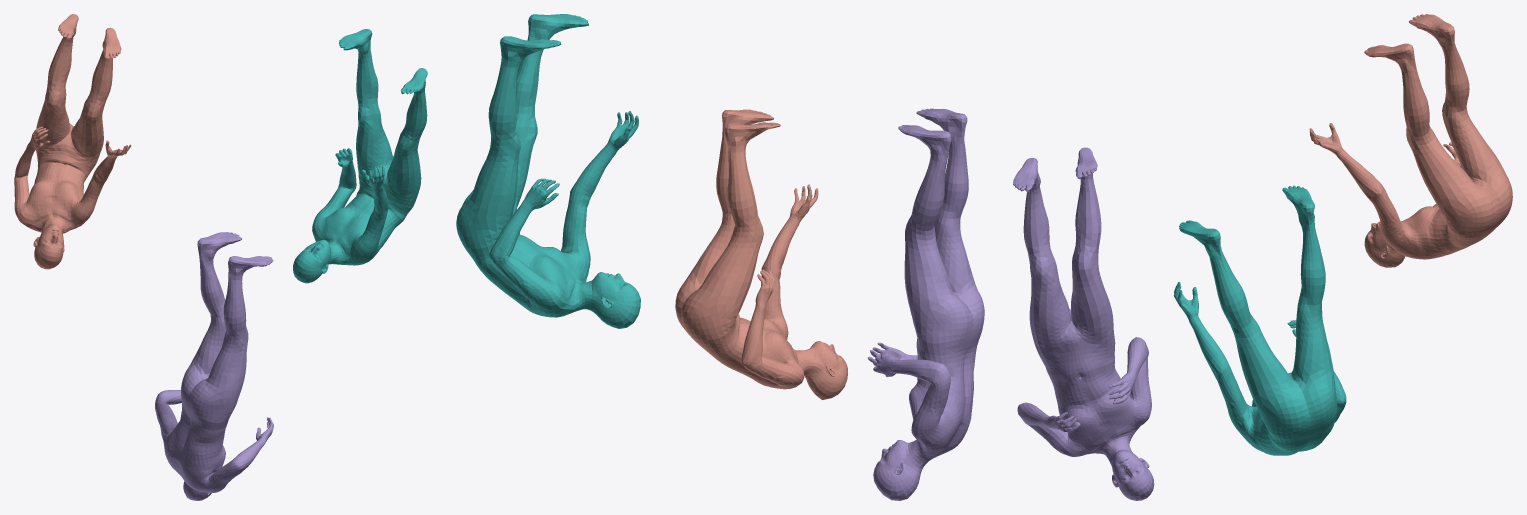
Rendered from all_people_native_world.glb.
The picture shows the model from 3 angles, left to right: view 1: azimuth 30°, elevation 25°; view 2: azimuth 150°, elevation 25°; view 3: azimuth 270°, elevation 25°; orthographic projection. The views are drawn at different scales.
Visible parts, largest first — view 1: persistent_id_2_slot_0, persistent_id_1_slot_2, persistent_id_0_slot_1; view 2: persistent_id_1_slot_2, persistent_id_2_slot_0, persistent_id_0_slot_1; view 3: persistent_id_2_slot_0, persistent_id_0_slot_1, persistent_id_1_slot_2.
Boxes of the visible parts, x1,y1,x2,y2 form: persistent_id_2_slot_0: [155, 232, 273, 500]; persistent_id_1_slot_2: [293, 29, 427, 283]; persistent_id_0_slot_1: [14, 14, 131, 269]; persistent_id_1_slot_2: [456, 14, 640, 328]; persistent_id_2_slot_0: [867, 108, 984, 500]; persistent_id_0_slot_1: [675, 109, 847, 399]; persistent_id_2_slot_0: [1013, 147, 1154, 500]; persistent_id_0_slot_1: [1309, 14, 1512, 267]; persistent_id_1_slot_2: [1173, 185, 1346, 455].
Size of the model in its own units: 2.18 by 2.38 by 2.26.
